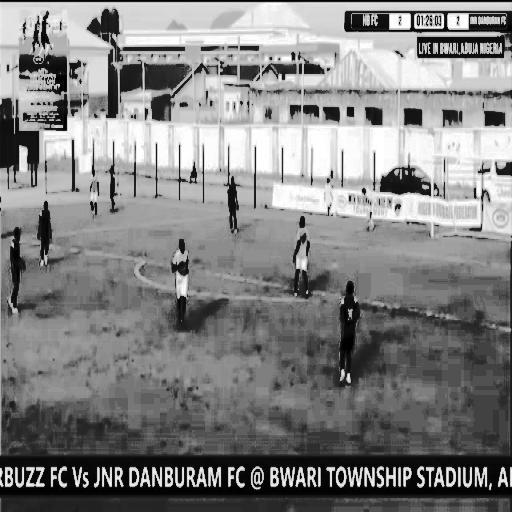keeper2: (362, 178, 378, 229)
team1: (168, 224, 200, 334), (289, 201, 316, 311), (86, 165, 102, 221)
team2: (335, 270, 362, 391), (6, 222, 26, 317), (223, 175, 245, 240), (36, 190, 50, 274), (107, 166, 117, 210)
